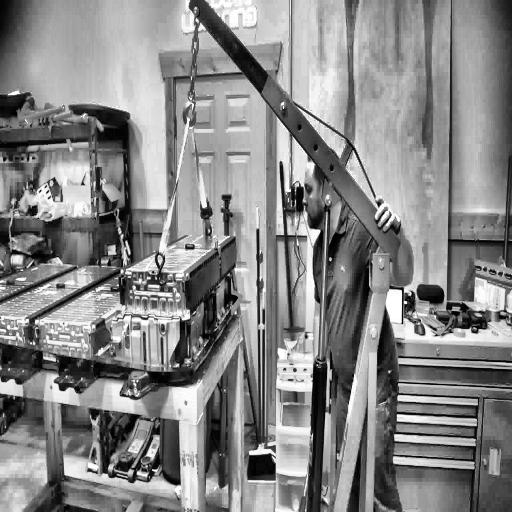battery_module: (41, 289, 121, 323), (0, 284, 77, 318), (127, 244, 215, 272), (48, 265, 117, 286), (172, 233, 232, 245)
